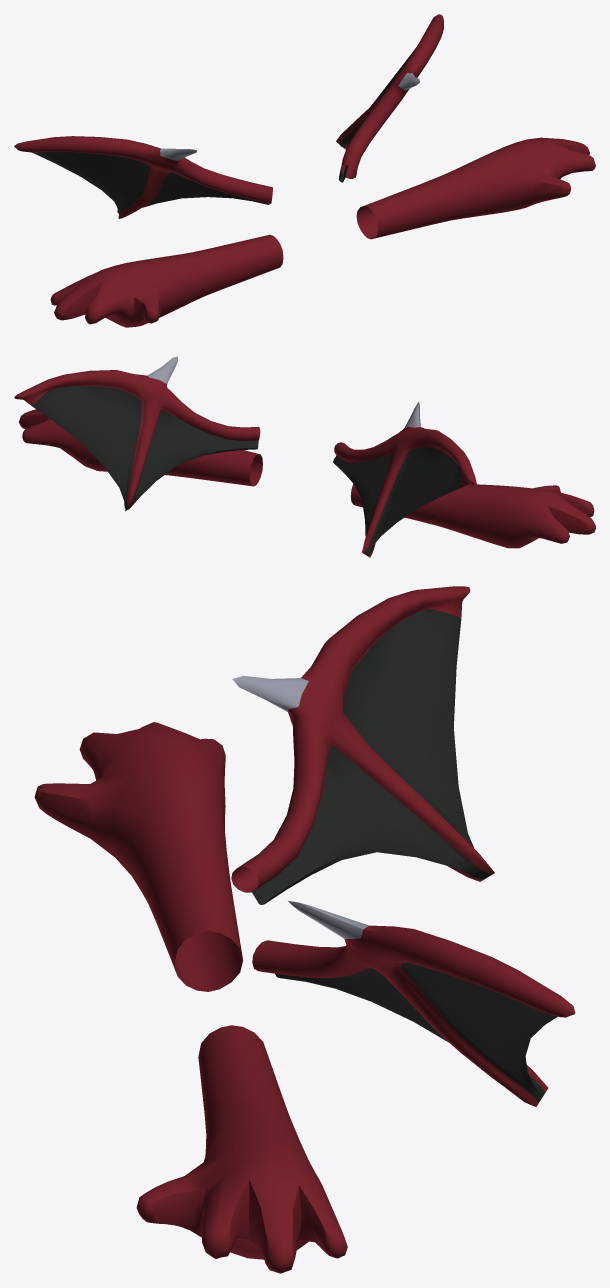
Rendered from Demon_Flying.002.fbx.
The picture shows the model from 3 angles, top to bottom: view 1: azimuth 30°, elevation 25°; view 2: azimuth 150°, elevation 25°; view 3: azimuth 270°, elevation 25°; orthographic projection. The views are drawn at different scales.
Parts seen in each view (by area): view 1: Demon_Flying.002; view 2: Demon_Flying.002; view 3: Demon_Flying.002.
Boxes of the visible parts, left/top/right/bottom form: Demon_Flying.002: left=14, top=14, right=595, bottom=327; Demon_Flying.002: left=14, top=356, right=595, bottom=557; Demon_Flying.002: left=34, top=586, right=575, bottom=1273.
Bounding box in the file's own units: 399 × 97.71 × 172.
